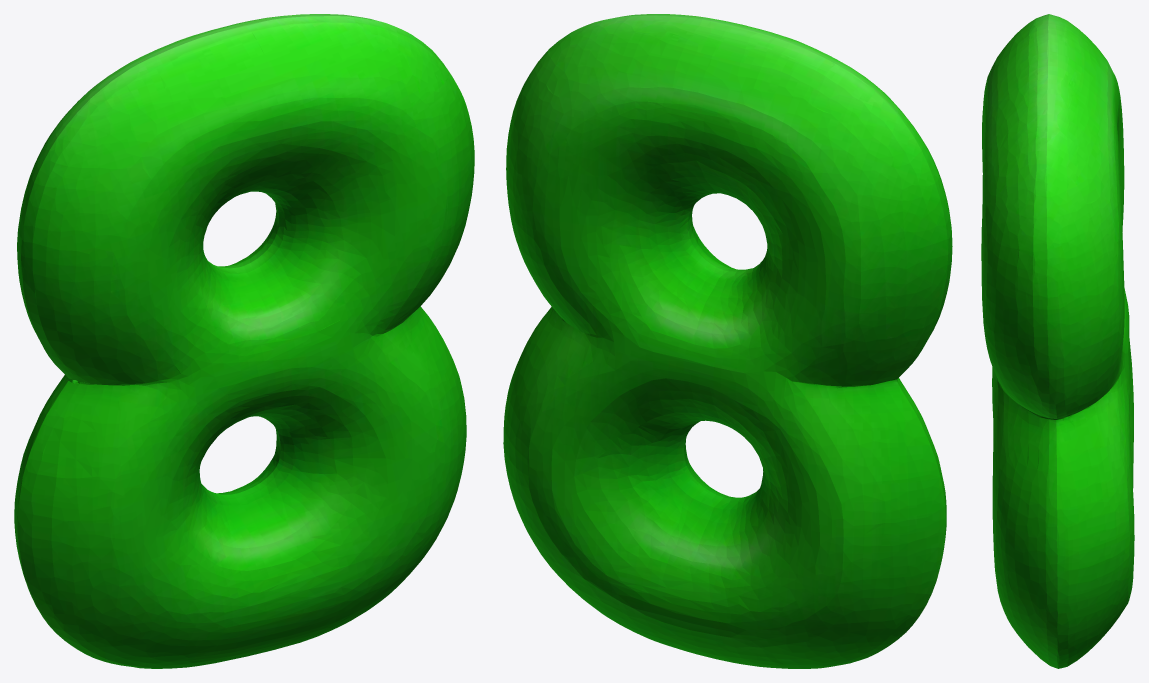
3 renders of one model, left to right at view 1: azimuth 30°, elevation 25°; view 2: azimuth 150°, elevation 25°; view 3: azimuth 270°, elevation 25°, orthographic. The views are drawn at different scales.
Parts seen in each view (by area): view 1: geometry_0; view 2: geometry_0; view 3: geometry_0.
Boxes of the visible parts, <box> form: geometry_0: <box>14,14,474,668</box>; geometry_0: <box>503,14,952,668</box>; geometry_0: <box>981,14,1134,668</box>.
Size of the model in its own units: 0.7356 by 1 by 0.2401.
Materials: 1 (1 with a texture image).
